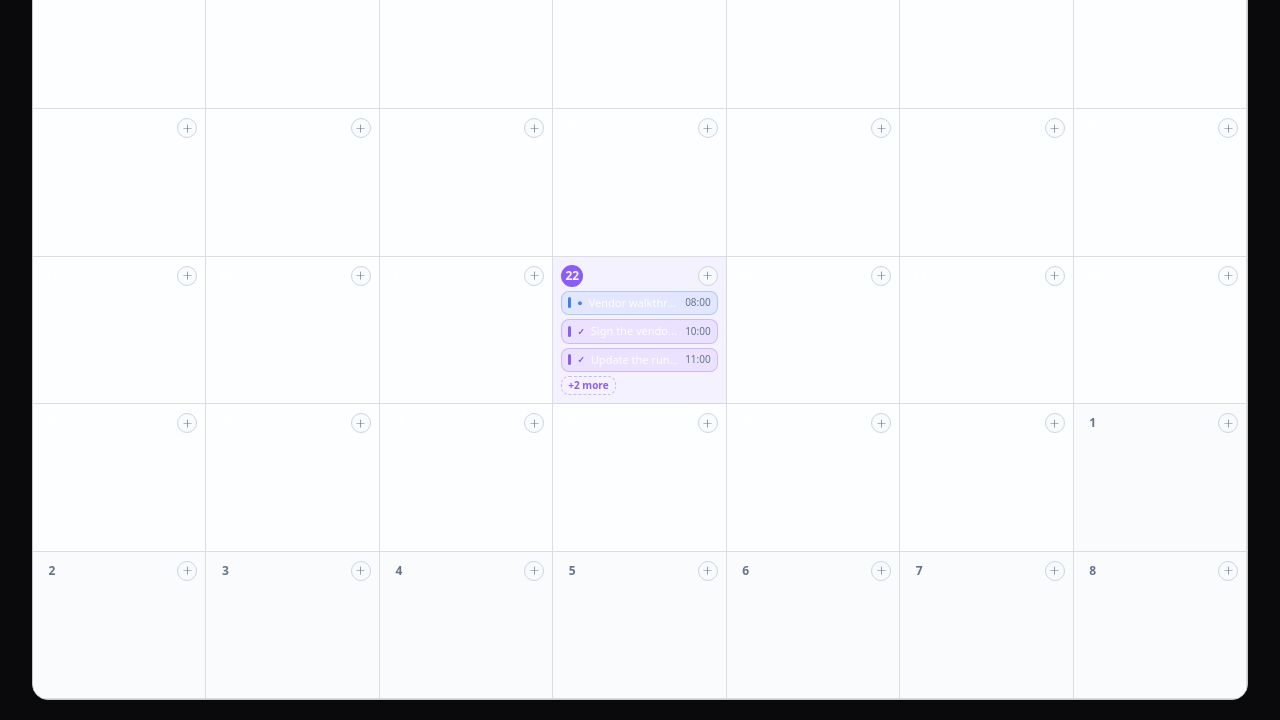
every item is reachable › opens the items a month cell could not show, which used to be a dead end
The image size is (1280, 720).
(page scrolled)
Click the button "+2 more" at coordinates (588, 386), box [561,376,616,395]
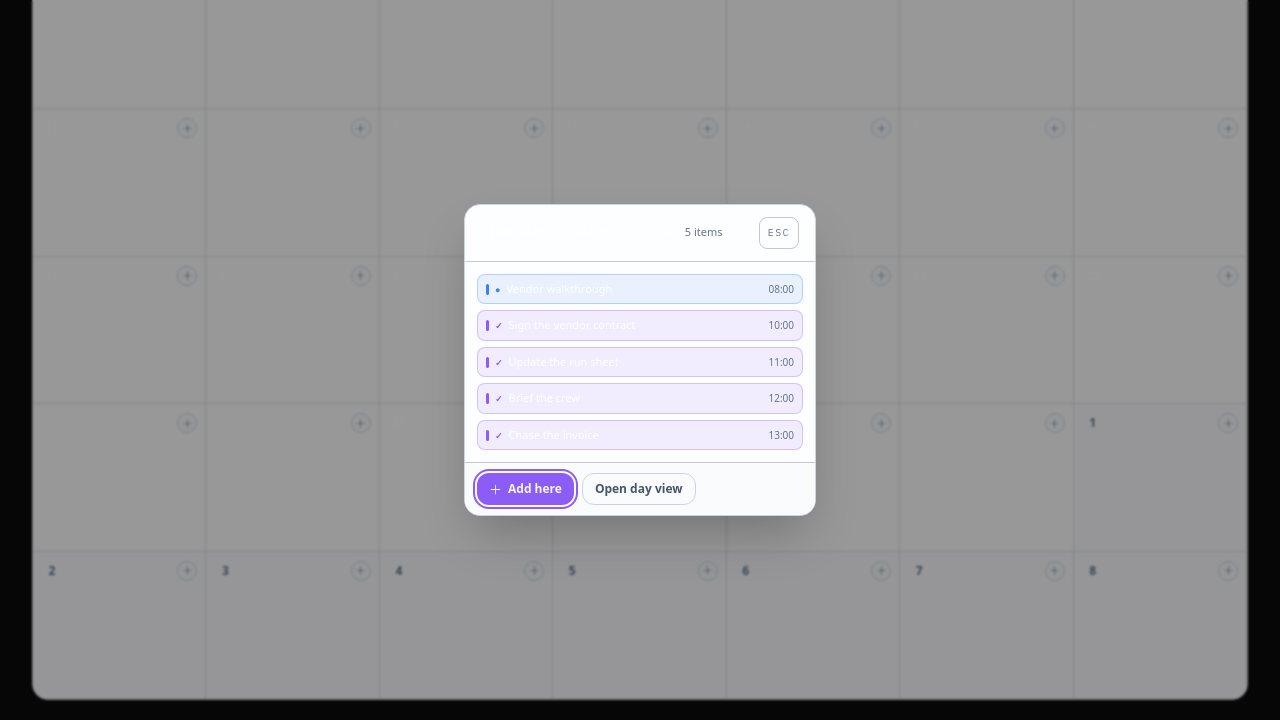
expect the button "✓ Sign the vendor contract 10:00" is shown: met, box [477,310,803,341]
expect the button "✓ Chase the invoice 13:00" is shown: met, box [477,420,803,450]
expect the button "● Vendor walkthrough 08:00" is shown: met, box [477,274,803,304]
